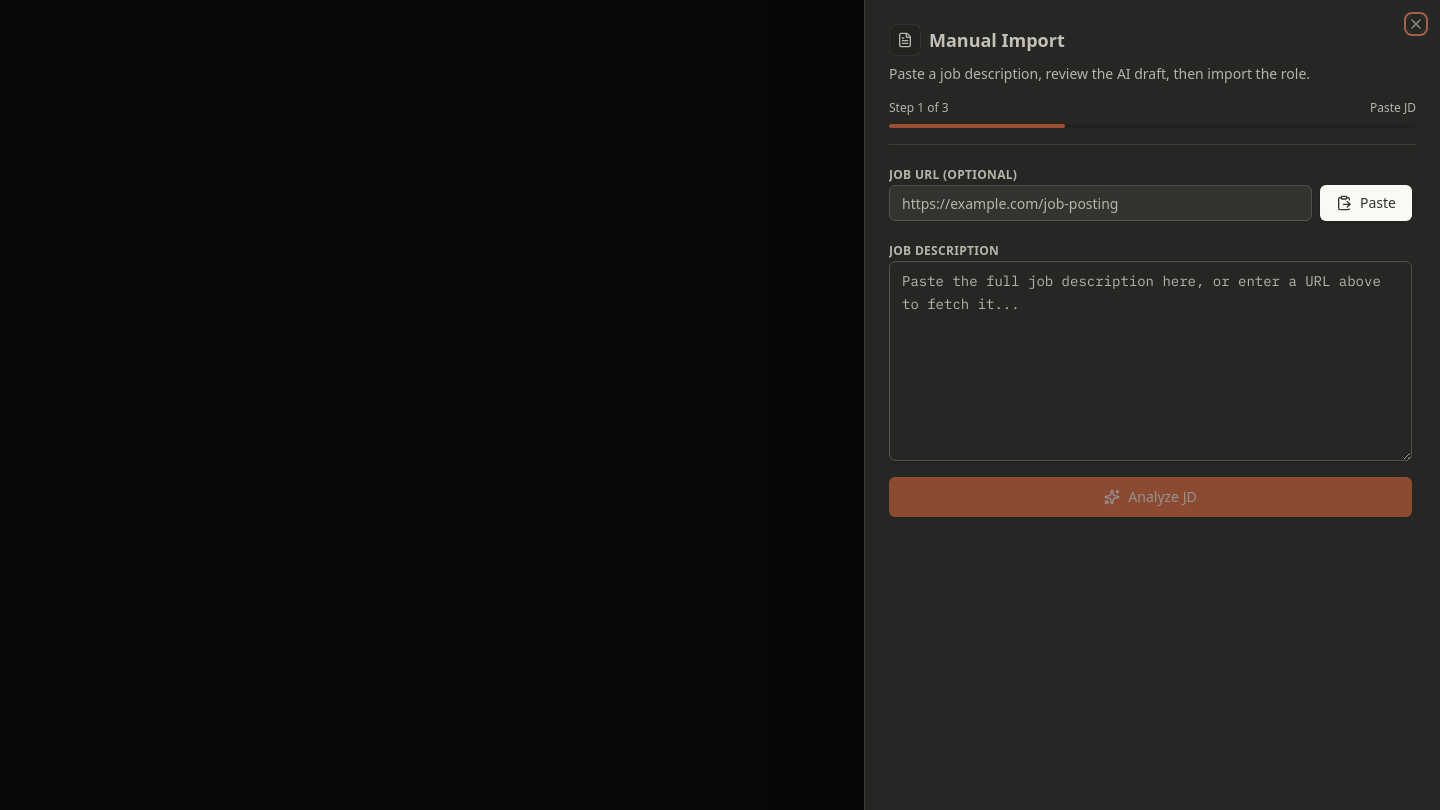
it: ManualImportSheet › URL fetch functionality › shows Paste button when URL field is empty, Fetch when URL is entered
The width and height of the screenshot is (1440, 810).
Expected: the button "Paste" is shown, 1320,185 -> 1412,221
Enter a URL
In the field with placeholder "https://example.com/job-posting": (1100, 203) 889,185 -> 1312,221, type "https://example.com/job"
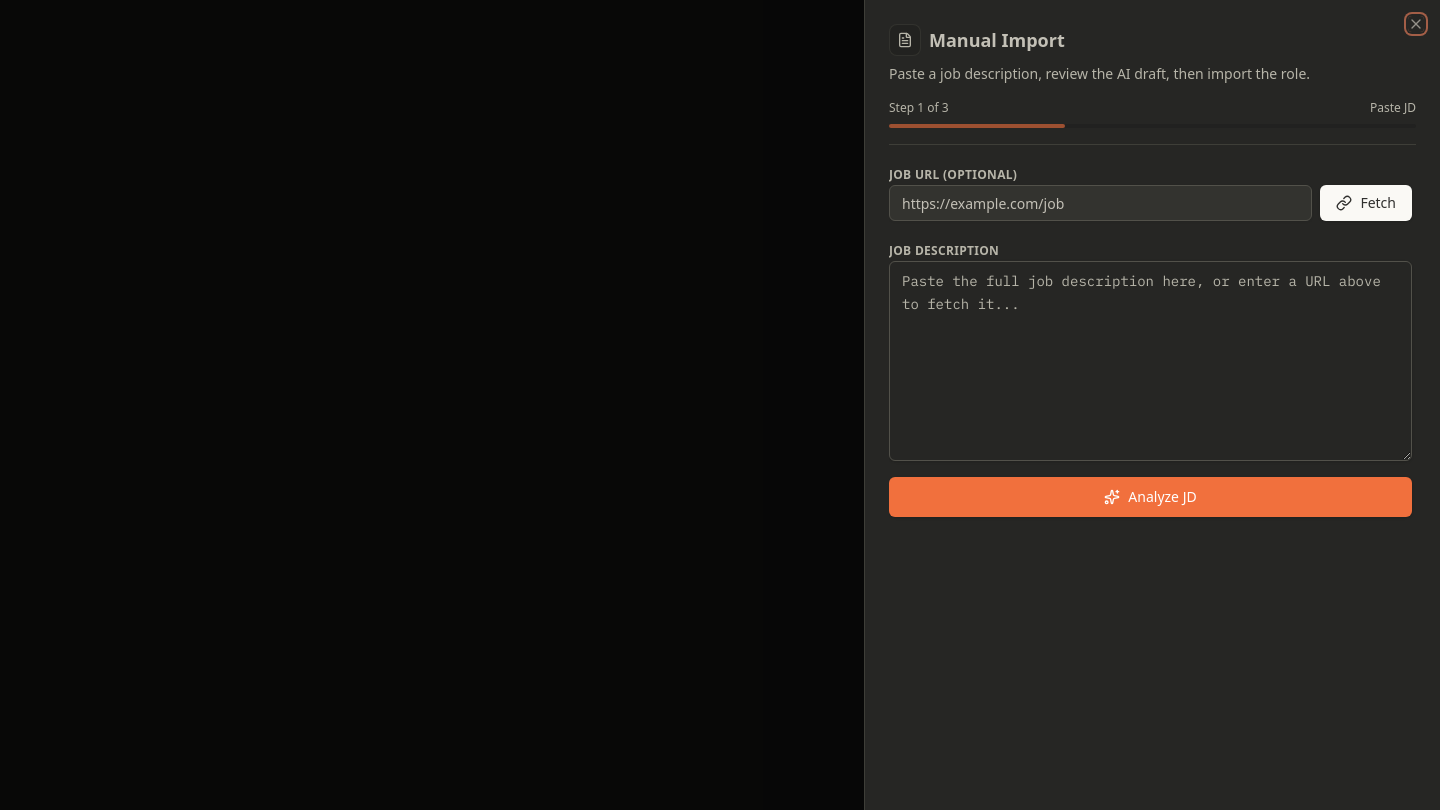
Now the button "Fetch" is shown, box 1320,185 -> 1412,221
